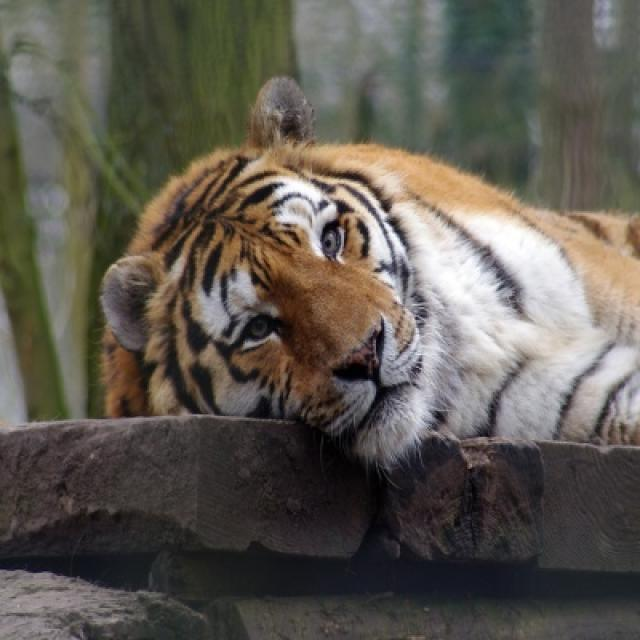Tiger: (104, 160, 638, 428)
